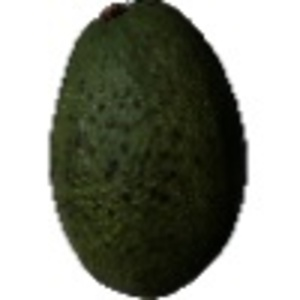abacate: (45, 1, 247, 298)
